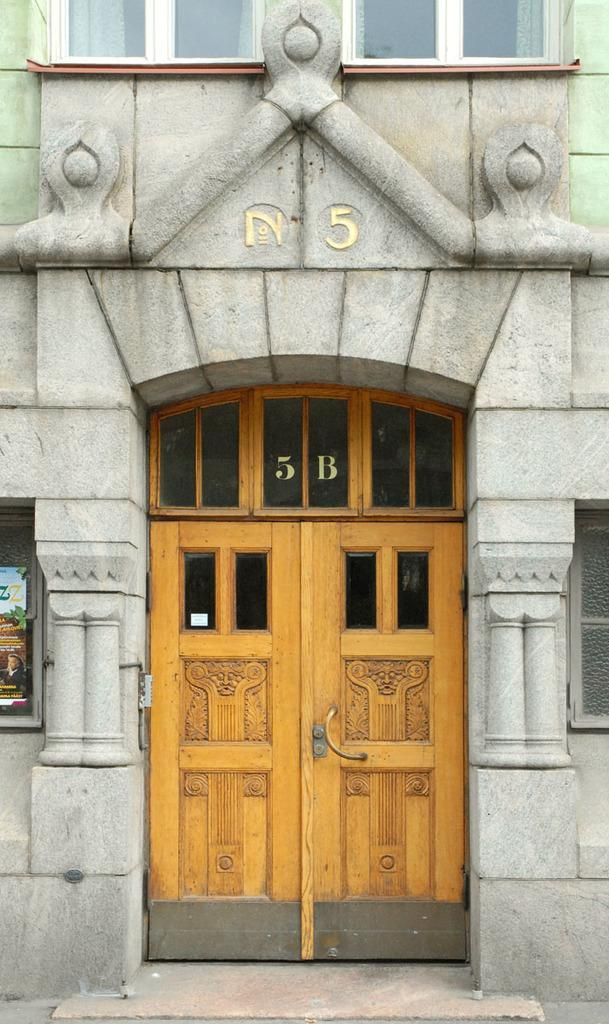door: (153, 528, 298, 940), (316, 534, 459, 938)
handle: (326, 701, 366, 768), (312, 718, 325, 750)
